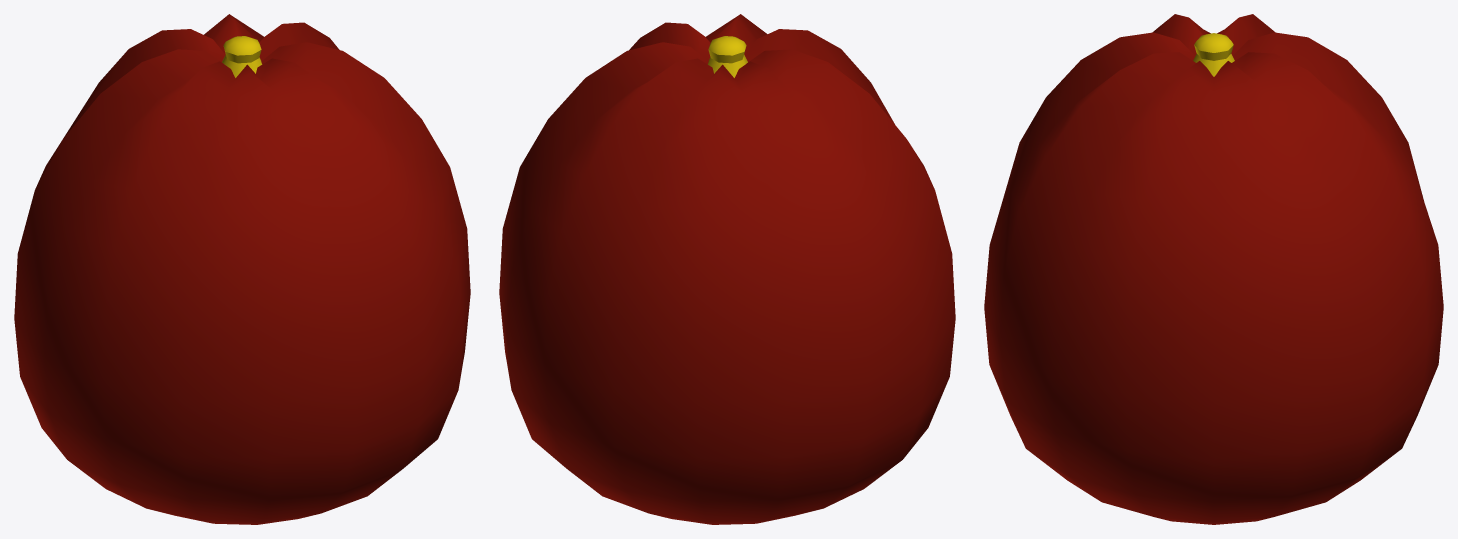
Rendered from Grapefruit.FBX.
3 views of the same model, side by side, from view 1: azimuth 30°, elevation 25°; view 2: azimuth 150°, elevation 25°; view 3: azimuth 270°, elevation 25° (orthographic).
Parts seen in each view (by area): view 1: Grapefruit; view 2: Grapefruit; view 3: Grapefruit.
Boxes of the visible parts, x1,y1,x2,y2 form: Grapefruit: (14,14,470,524); Grapefruit: (499,14,955,524); Grapefruit: (984,14,1443,524).
Bounding box in the file's own units: 1016 × 1016 × 1112.
